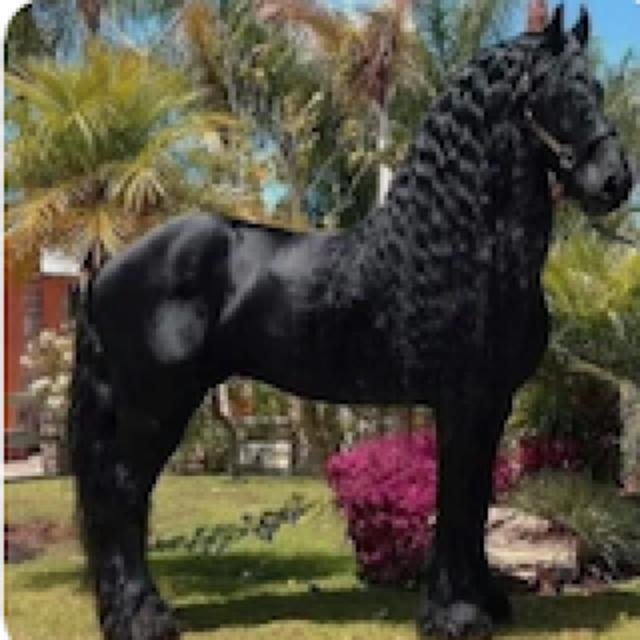Horse: (60, 0, 640, 636)
